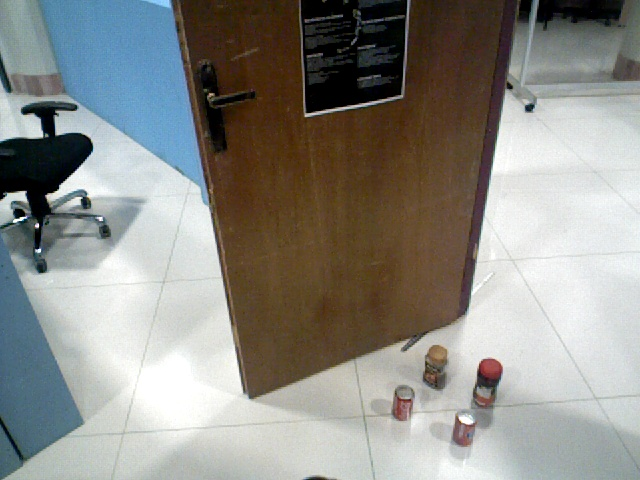coca: (393, 385, 414, 424)
coffee: (421, 344, 451, 391)
cream: (475, 355, 497, 411)
door_handle: (185, 58, 255, 155)
fanta: (450, 410, 478, 447)
